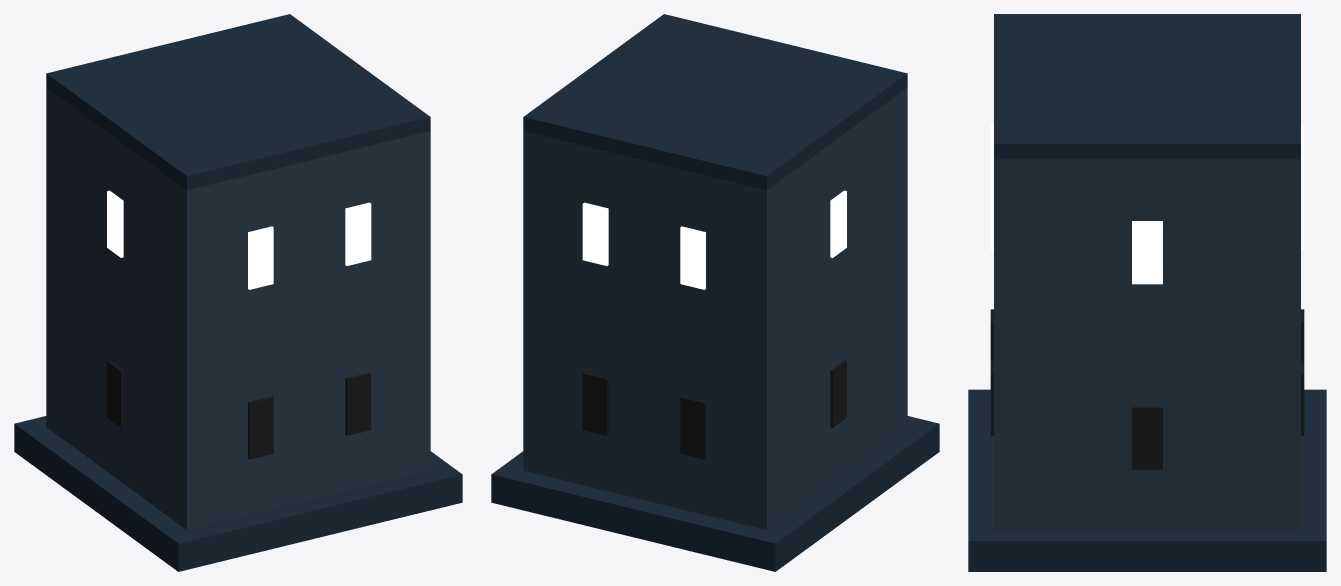
File: building-system.glb
3 views of the same model, side by side, from view 1: azimuth 30°, elevation 25°; view 2: azimuth 150°, elevation 25°; view 3: azimuth 270°, elevation 25° (orthographic). The views are drawn at different scales.
Visible parts, largest first — view 1: body, roof, base, win-f-0-1, win-f-1-1, win-f-0-0, win-f-1-0, win-l-0, win-l-1; view 2: body, roof, base, win-b-0-1, win-b-1-1, win-b-0-0, win-b-1-0, win-l-0, win-l-1; view 3: body, roof, base, win-r-0, win-r-1.
Boxes of the visible parts, box(x1,y1,x2,y2) form: body: box(46, 87, 430, 529); roof: box(46, 14, 430, 190); base: box(14, 416, 462, 571); win-f-0-1: box(345, 372, 371, 435); win-f-1-1: box(345, 202, 371, 265); win-f-0-0: box(248, 396, 273, 459); win-f-1-0: box(248, 226, 273, 289); win-l-0: box(107, 360, 123, 427); win-l-1: box(107, 190, 123, 257); body: box(523, 87, 907, 529); roof: box(523, 14, 907, 190); base: box(491, 416, 939, 571); win-b-0-1: box(582, 372, 608, 435); win-b-1-1: box(582, 202, 608, 265); win-b-0-0: box(680, 396, 705, 459); win-b-1-0: box(680, 226, 705, 289); win-l-0: box(830, 360, 846, 427); win-l-1: box(830, 190, 846, 257); body: box(994, 159, 1300, 530); roof: box(994, 14, 1300, 159); base: box(968, 389, 1326, 571); win-r-0: box(1132, 406, 1162, 469); win-r-1: box(1132, 221, 1162, 284).
Size of the model in its own units: 2.1 by 2.7 by 2.1.
